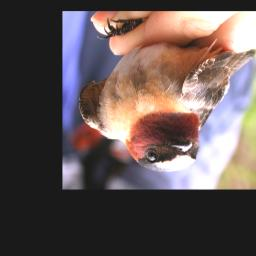Swallow: (80, 17, 255, 172)
